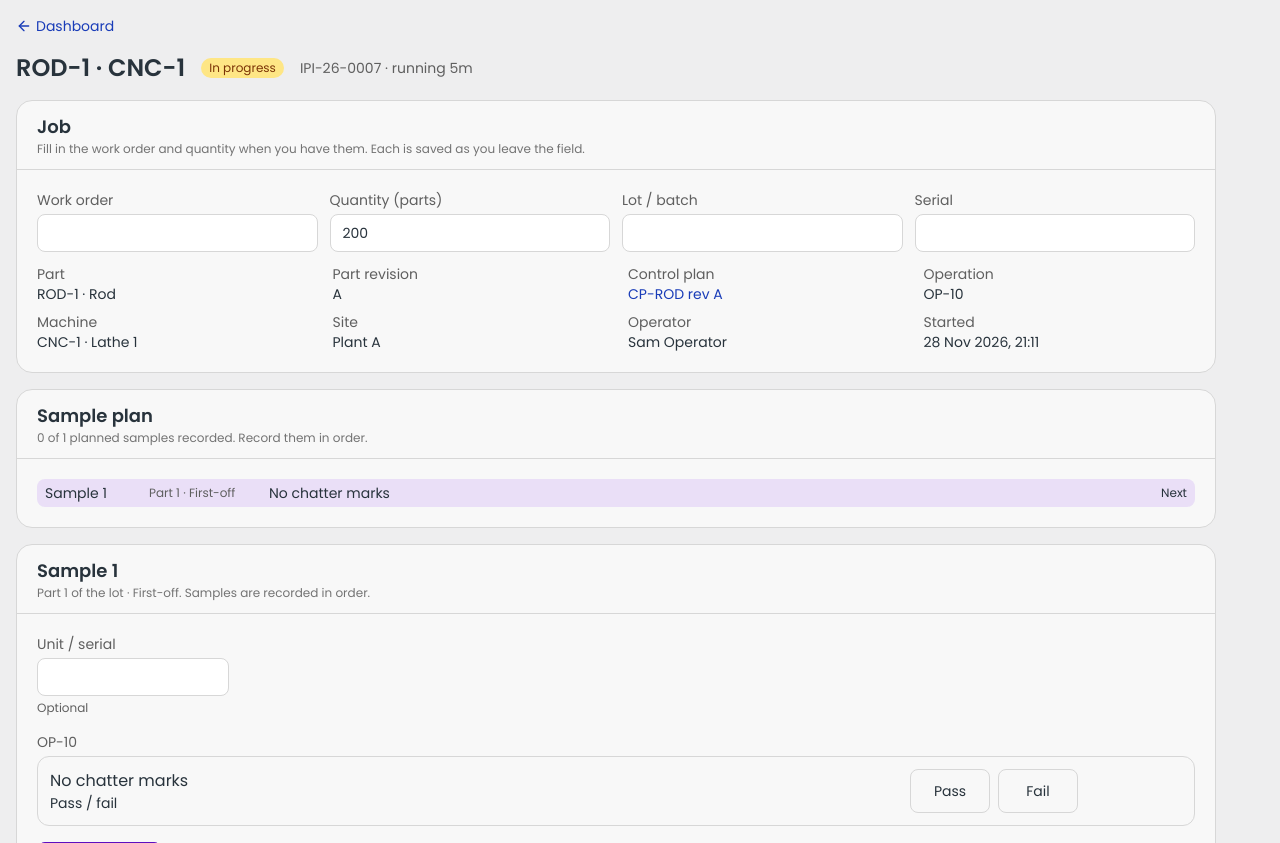
Test: the job hub › puts the old value back and says why when saving fails
Step 1. Type "WO-1" into the field labelled "Work order" → (177, 233), box [37,214,318,252]
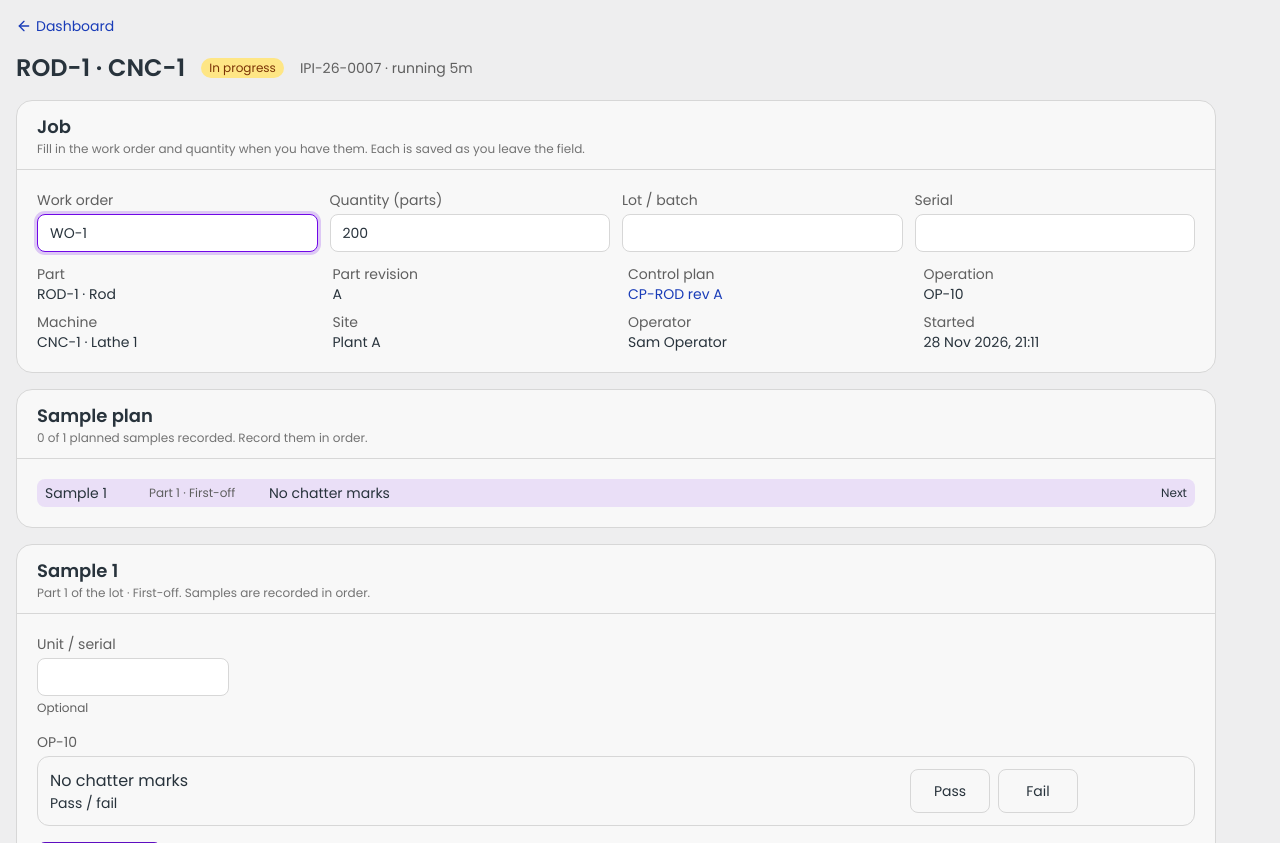
Step 2. Press Tab
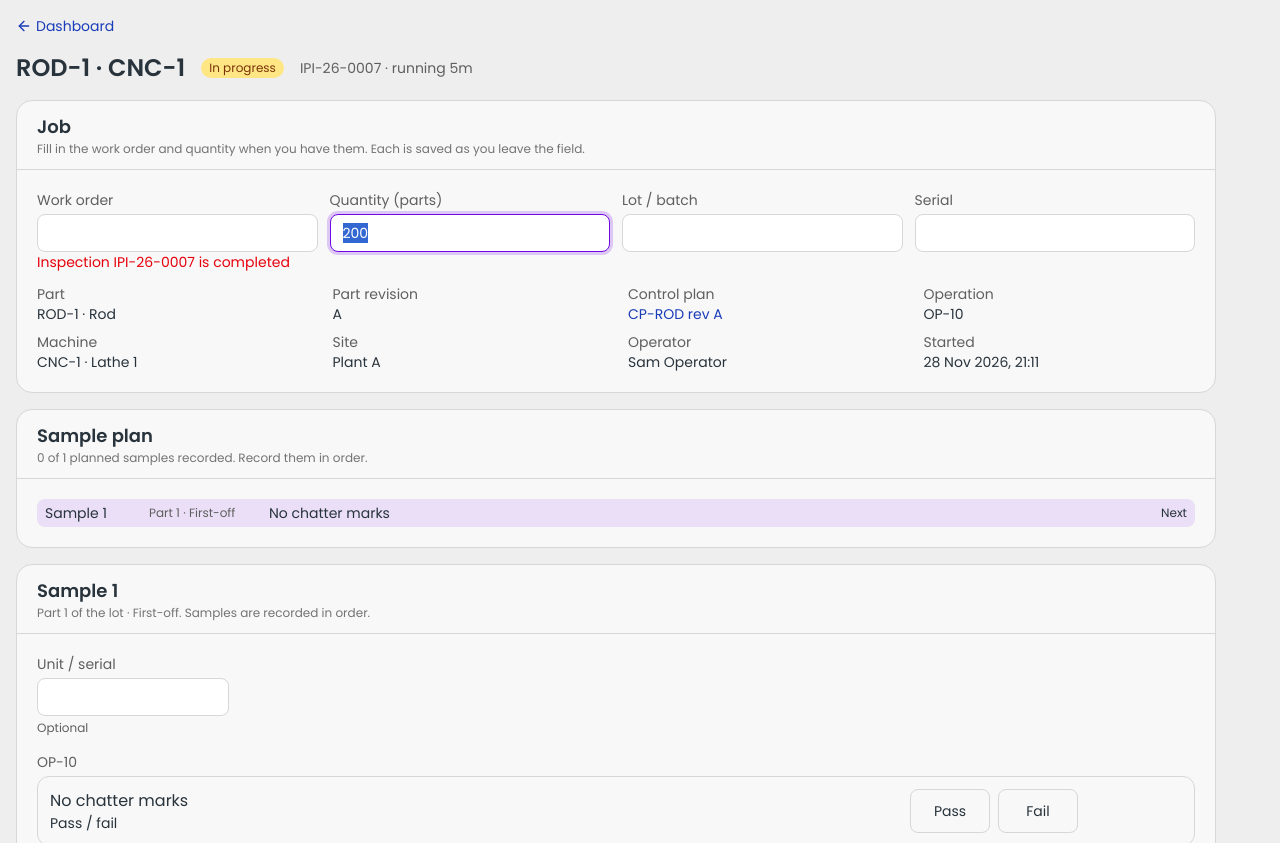
expect the message "Inspection IPI-26-0007 is completed" is shown: met, box [37,252,290,272]
expect the field labelled "Work order" is empty: met, box [37,214,318,252]
